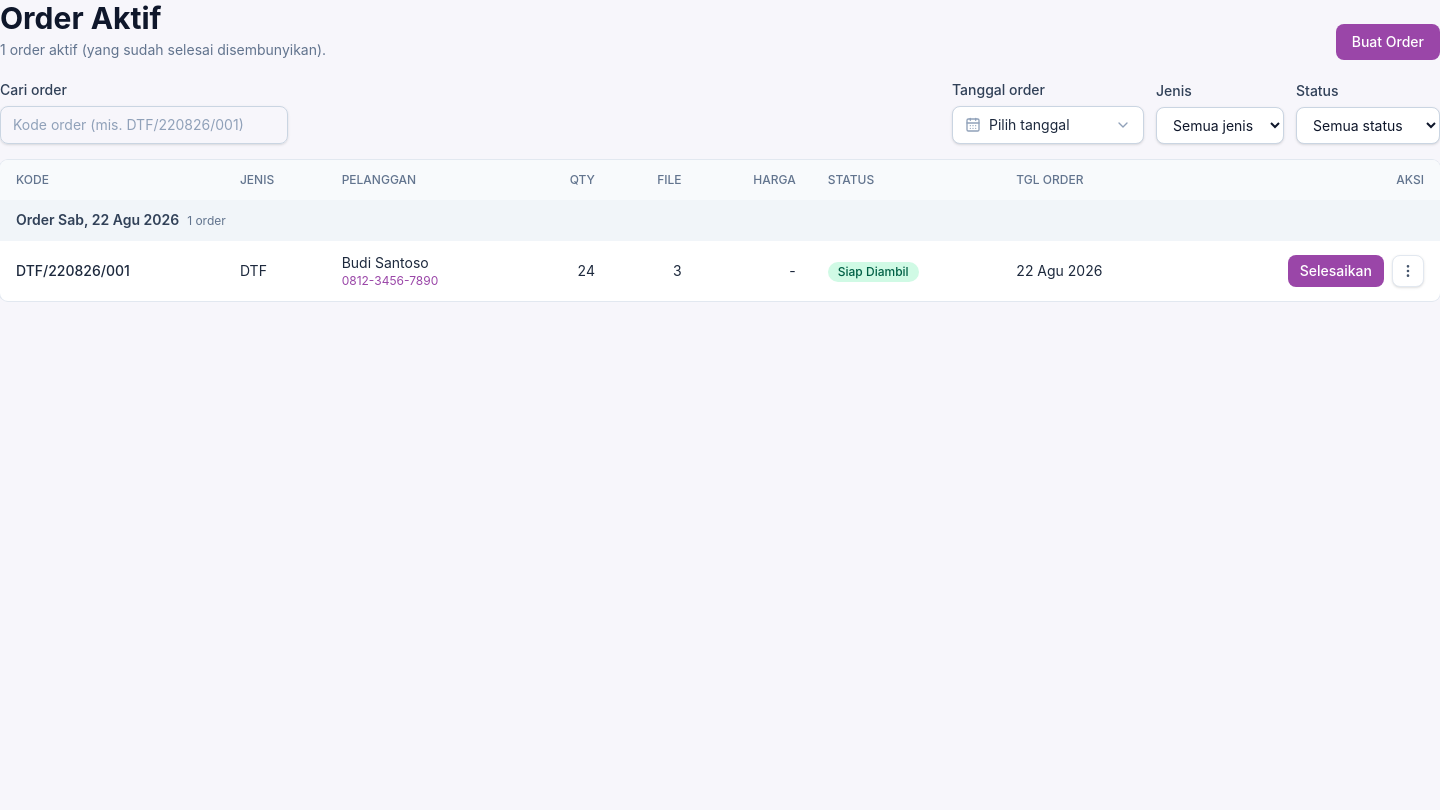
Scenario: PesananPage — membuat order › tidak memanggil create kalau pelanggan/jenis belum lengkap
Expected: the text "DTF/220826/001" is shown, [16,262,130,279]
Click the button "Buat Order": point(1388, 42) [1336,24,1439,60]
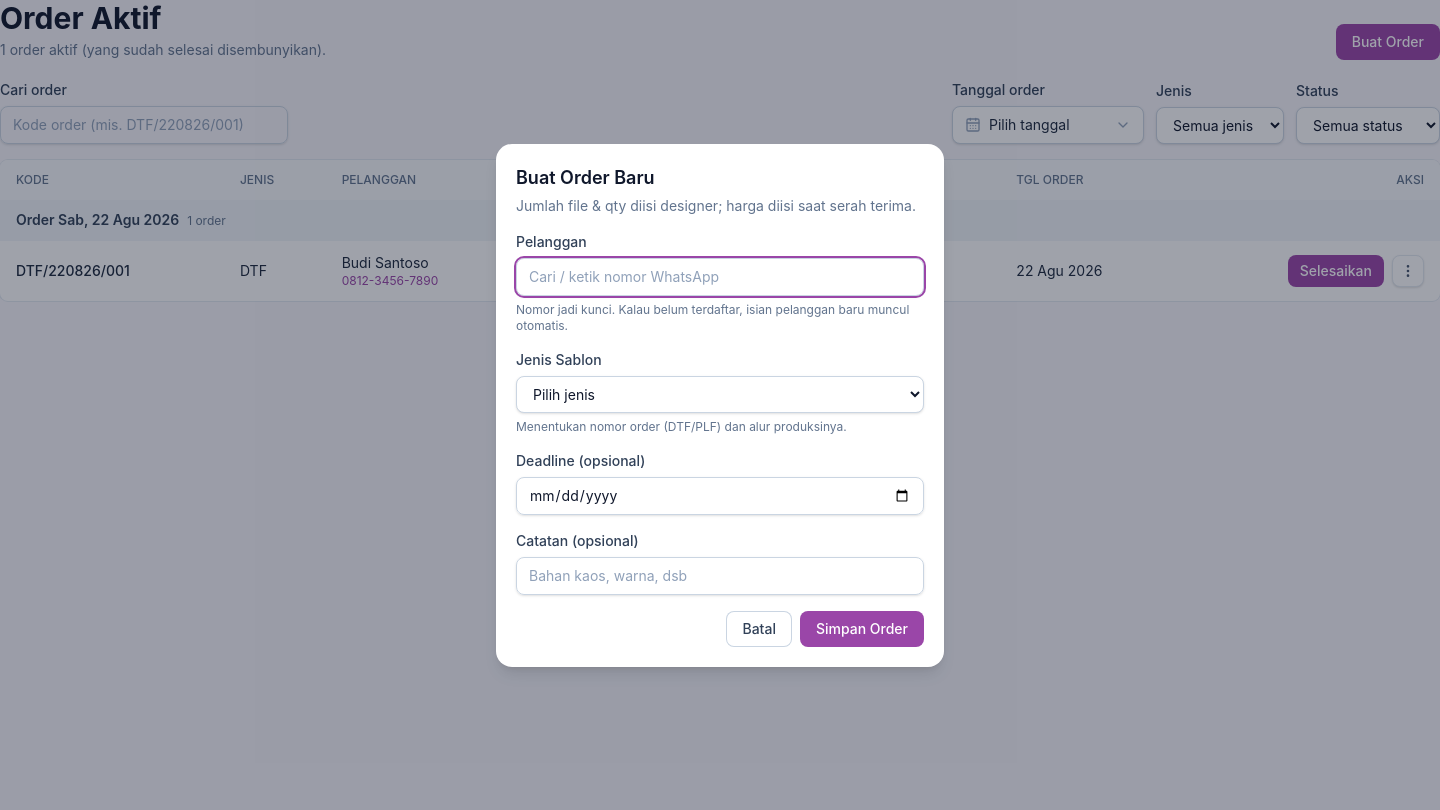
Expected: the text "Jumlah file & qty diisi designer" is shown, [516,196,916,214]
Click the button "Simpan Order": point(862, 628) [800,610,924,646]
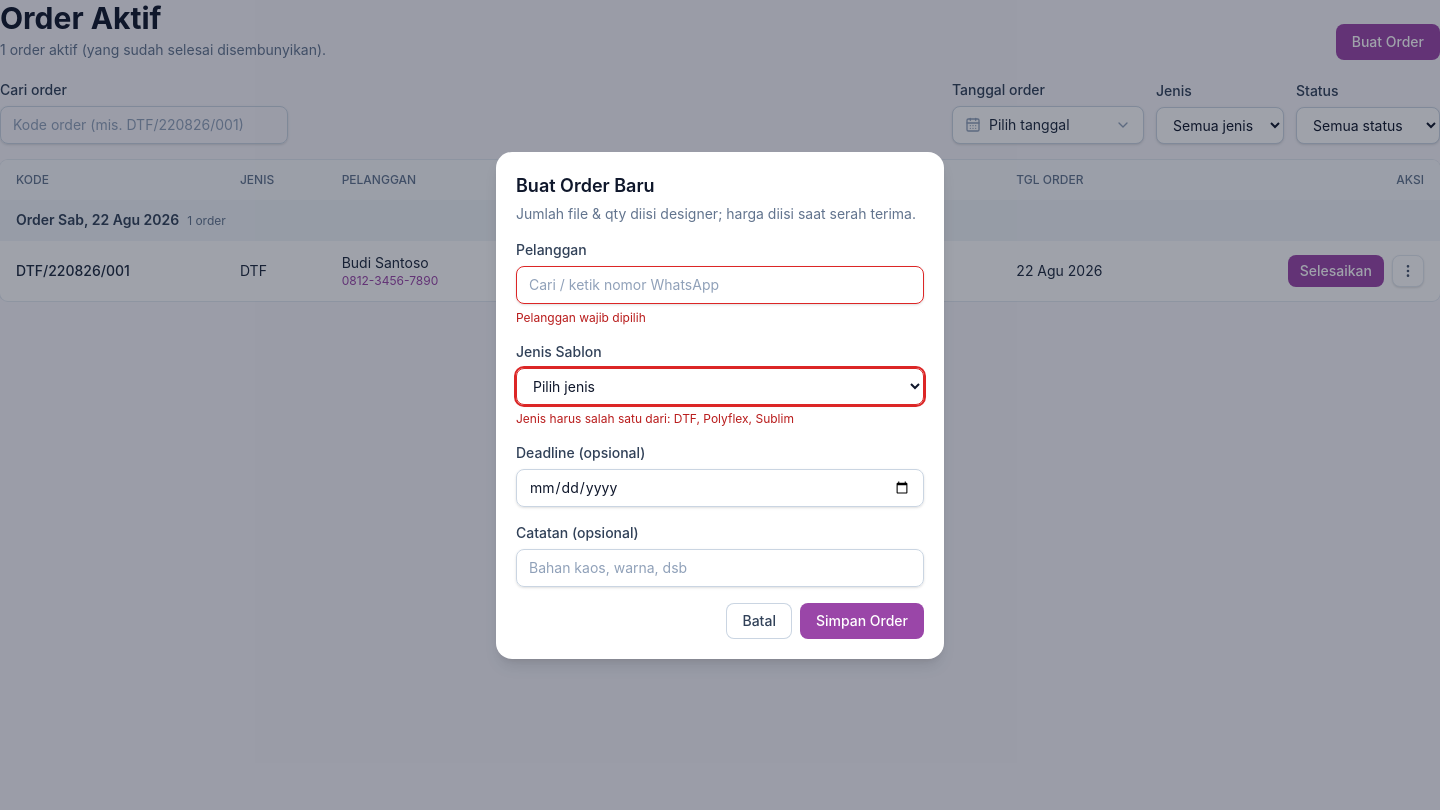
Expected: the text "Pelanggan wajib dipilih" is shown, [516,310,646,324]
